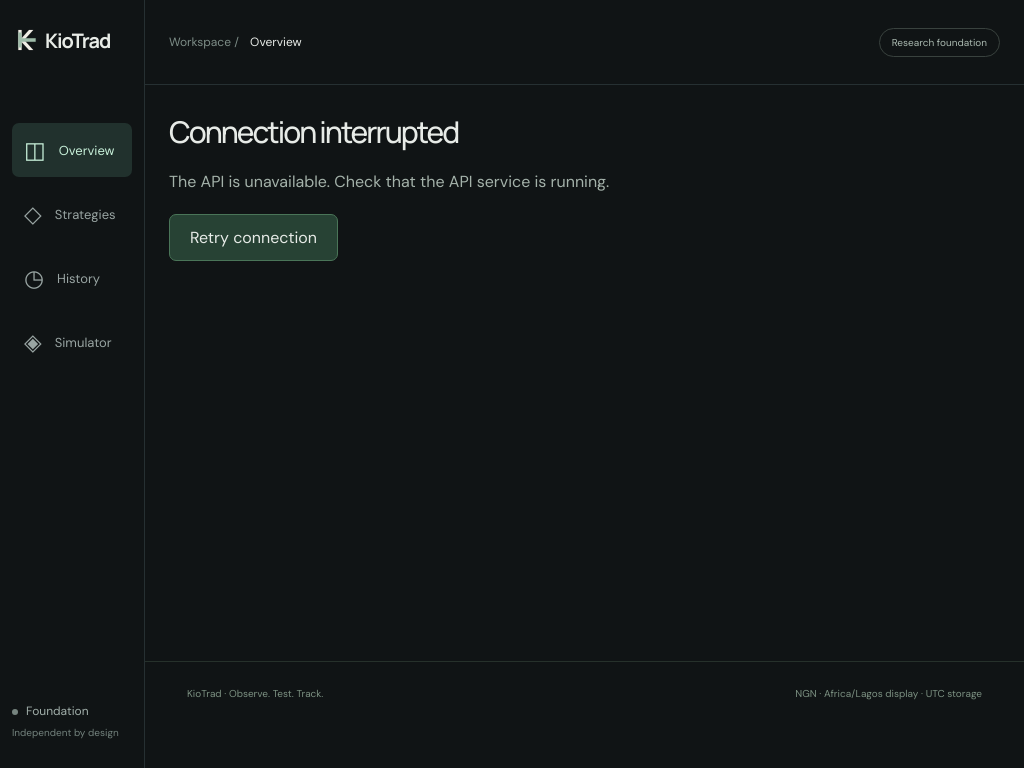
Scenario: reports API failure and can retry successfully
Expected: the message shows "The API is unavailable", left=169, top=171, right=609, bottom=192
What coordinates should you click on to do the following:
click the button "Retry connection"
I would click on:
 (254, 238)
Its box is left=169, top=214, right=338, bottom=261.
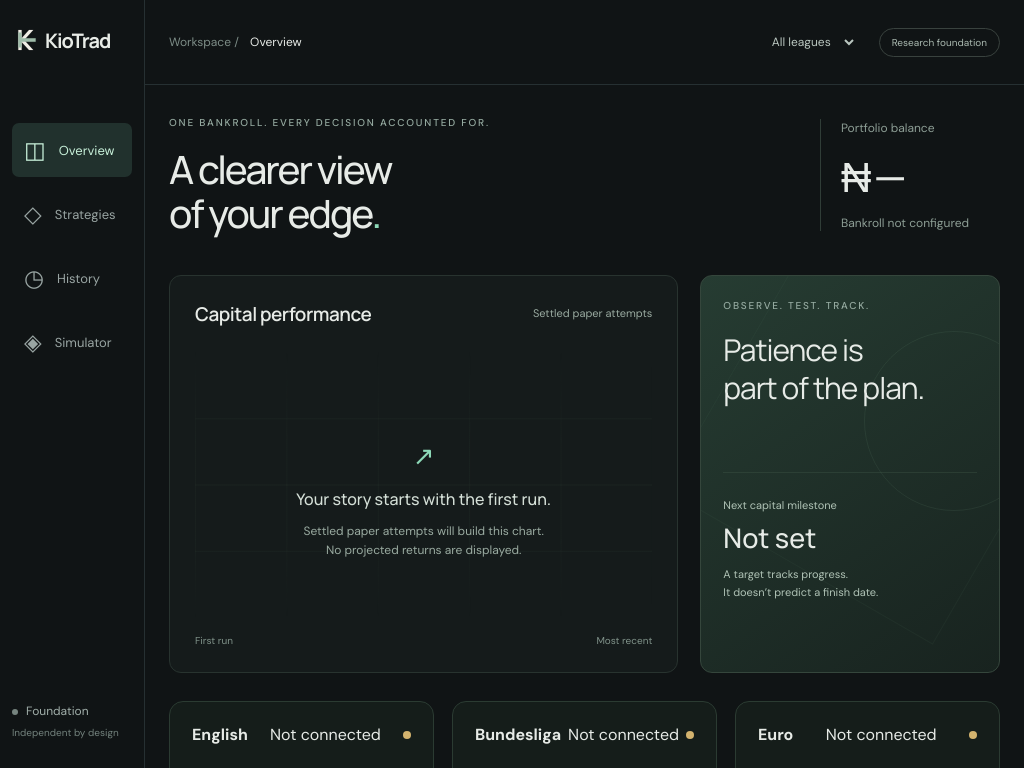
Expected: the text "Bankroll not configured" is shown, left=841, top=215, right=969, bottom=231
